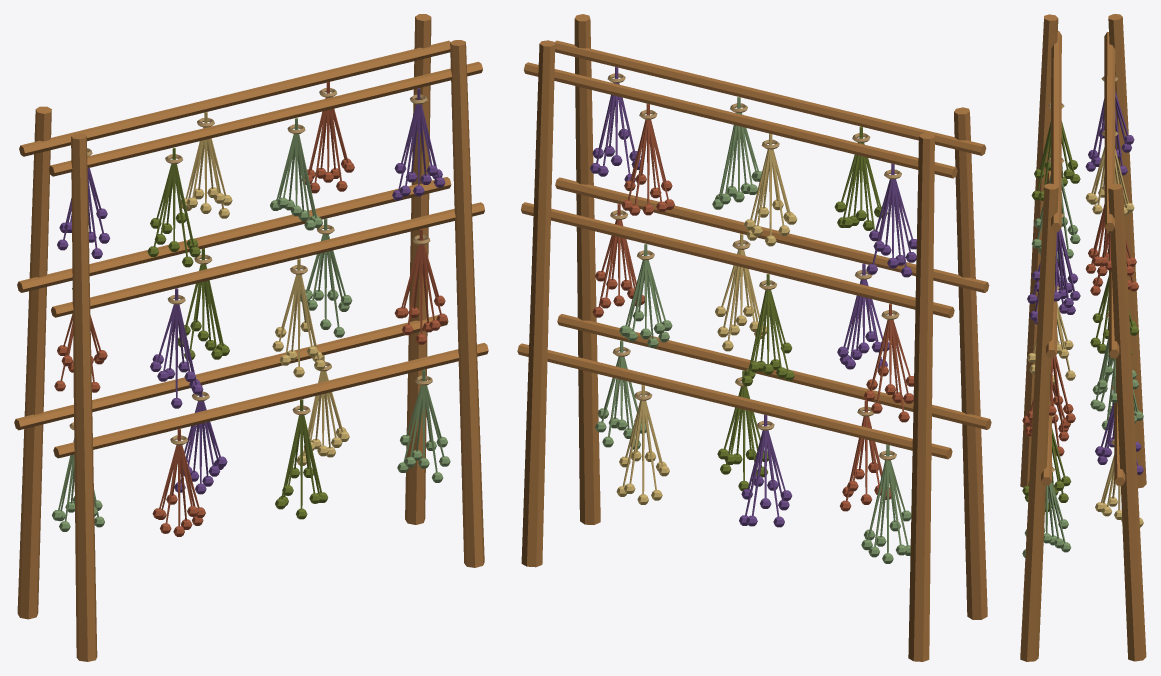
The model's file is deco_drying_rack_herbs.fbx.
The picture shows the model from 3 angles, left to right: view 1: azimuth 30°, elevation 25°; view 2: azimuth 150°, elevation 25°; view 3: azimuth 270°, elevation 25°; orthographic projection. The views are drawn at different scales.
Visible parts, largest first — view 1: DryingRack_Herbs_Frame, DryingRack_Herbs_Bunches3, DryingRack_Herbs_Bunches2, DryingRack_Herbs_Bunches1; view 2: DryingRack_Herbs_Frame, DryingRack_Herbs_Bunches3, DryingRack_Herbs_Bunches2, DryingRack_Herbs_Bunches1; view 3: DryingRack_Herbs_Frame, DryingRack_Herbs_Bunches3, DryingRack_Herbs_Bunches2, DryingRack_Herbs_Bunches1.
Boxes of the visible parts, x1,y1,x2,y2 form: DryingRack_Herbs_Frame: [14, 14, 488, 661]; DryingRack_Herbs_Bunches3: [57, 82, 445, 267]; DryingRack_Herbs_Bunches2: [54, 218, 447, 408]; DryingRack_Herbs_Bunches1: [52, 355, 450, 536]; DryingRack_Herbs_Frame: [517, 14, 991, 661]; DryingRack_Herbs_Bunches3: [590, 67, 916, 277]; DryingRack_Herbs_Bunches2: [592, 204, 913, 422]; DryingRack_Herbs_Bunches1: [595, 340, 911, 563]; DryingRack_Herbs_Frame: [1020, 14, 1146, 661]; DryingRack_Herbs_Bunches3: [1031, 76, 1134, 307]; DryingRack_Herbs_Bunches2: [1027, 233, 1139, 441]; DryingRack_Herbs_Bunches1: [1022, 358, 1143, 557].
Bounding box in the file's own units: 211 × 241 × 58.59.
